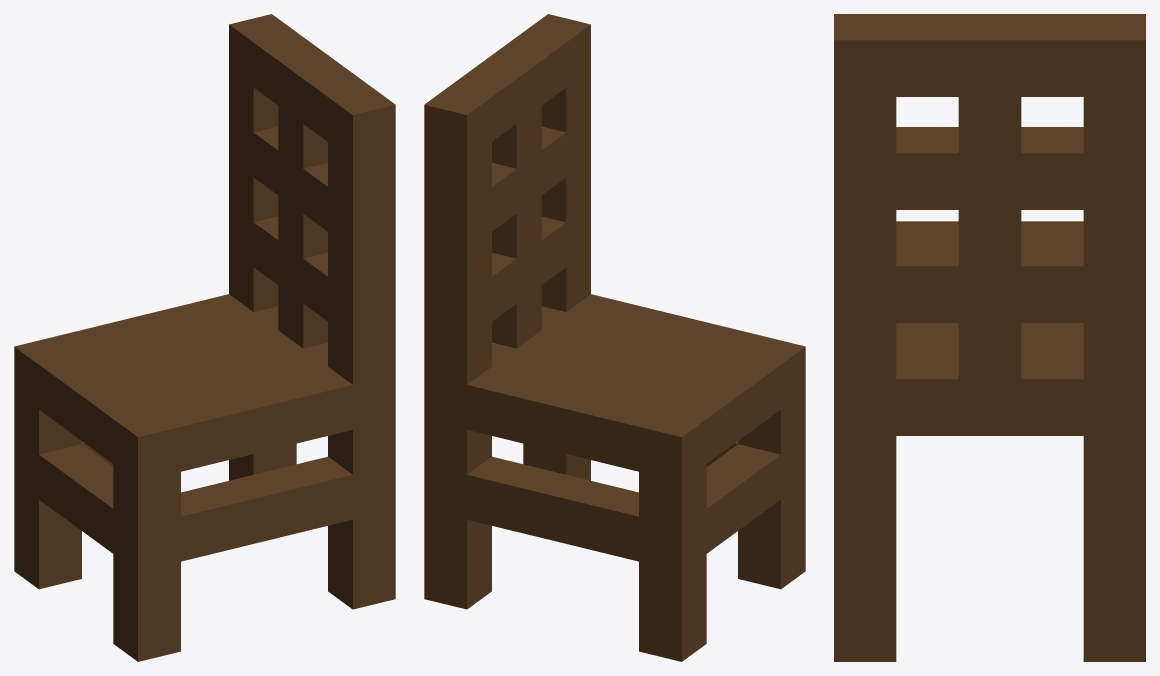
Rendered from Chair3.obj.
3 renders of one model, left to right at view 1: azimuth 30°, elevation 25°; view 2: azimuth 150°, elevation 25°; view 3: azimuth 270°, elevation 25°, orthographic. The views are drawn at different scales.
Bounding box in the file's own units: 0.6 × 1.1 × 0.5.
Materials: 1 (1 with a texture image).
